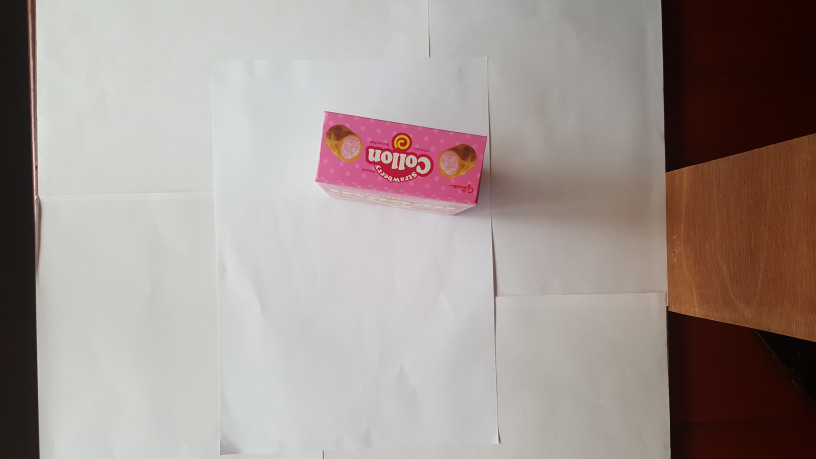collon-strawberry: (311, 108, 487, 217)
